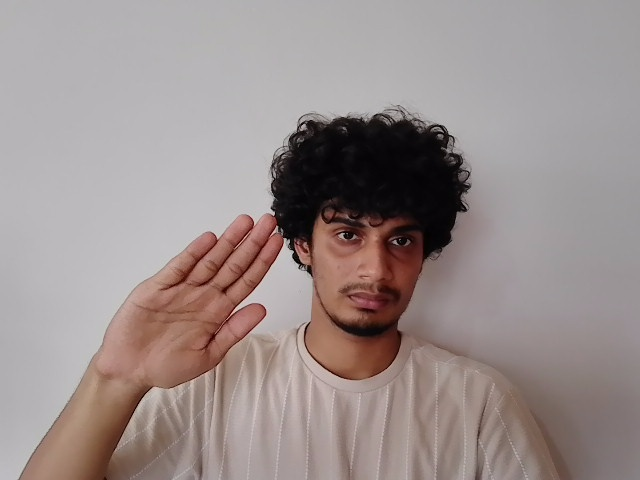hello: (100, 216, 286, 392)
